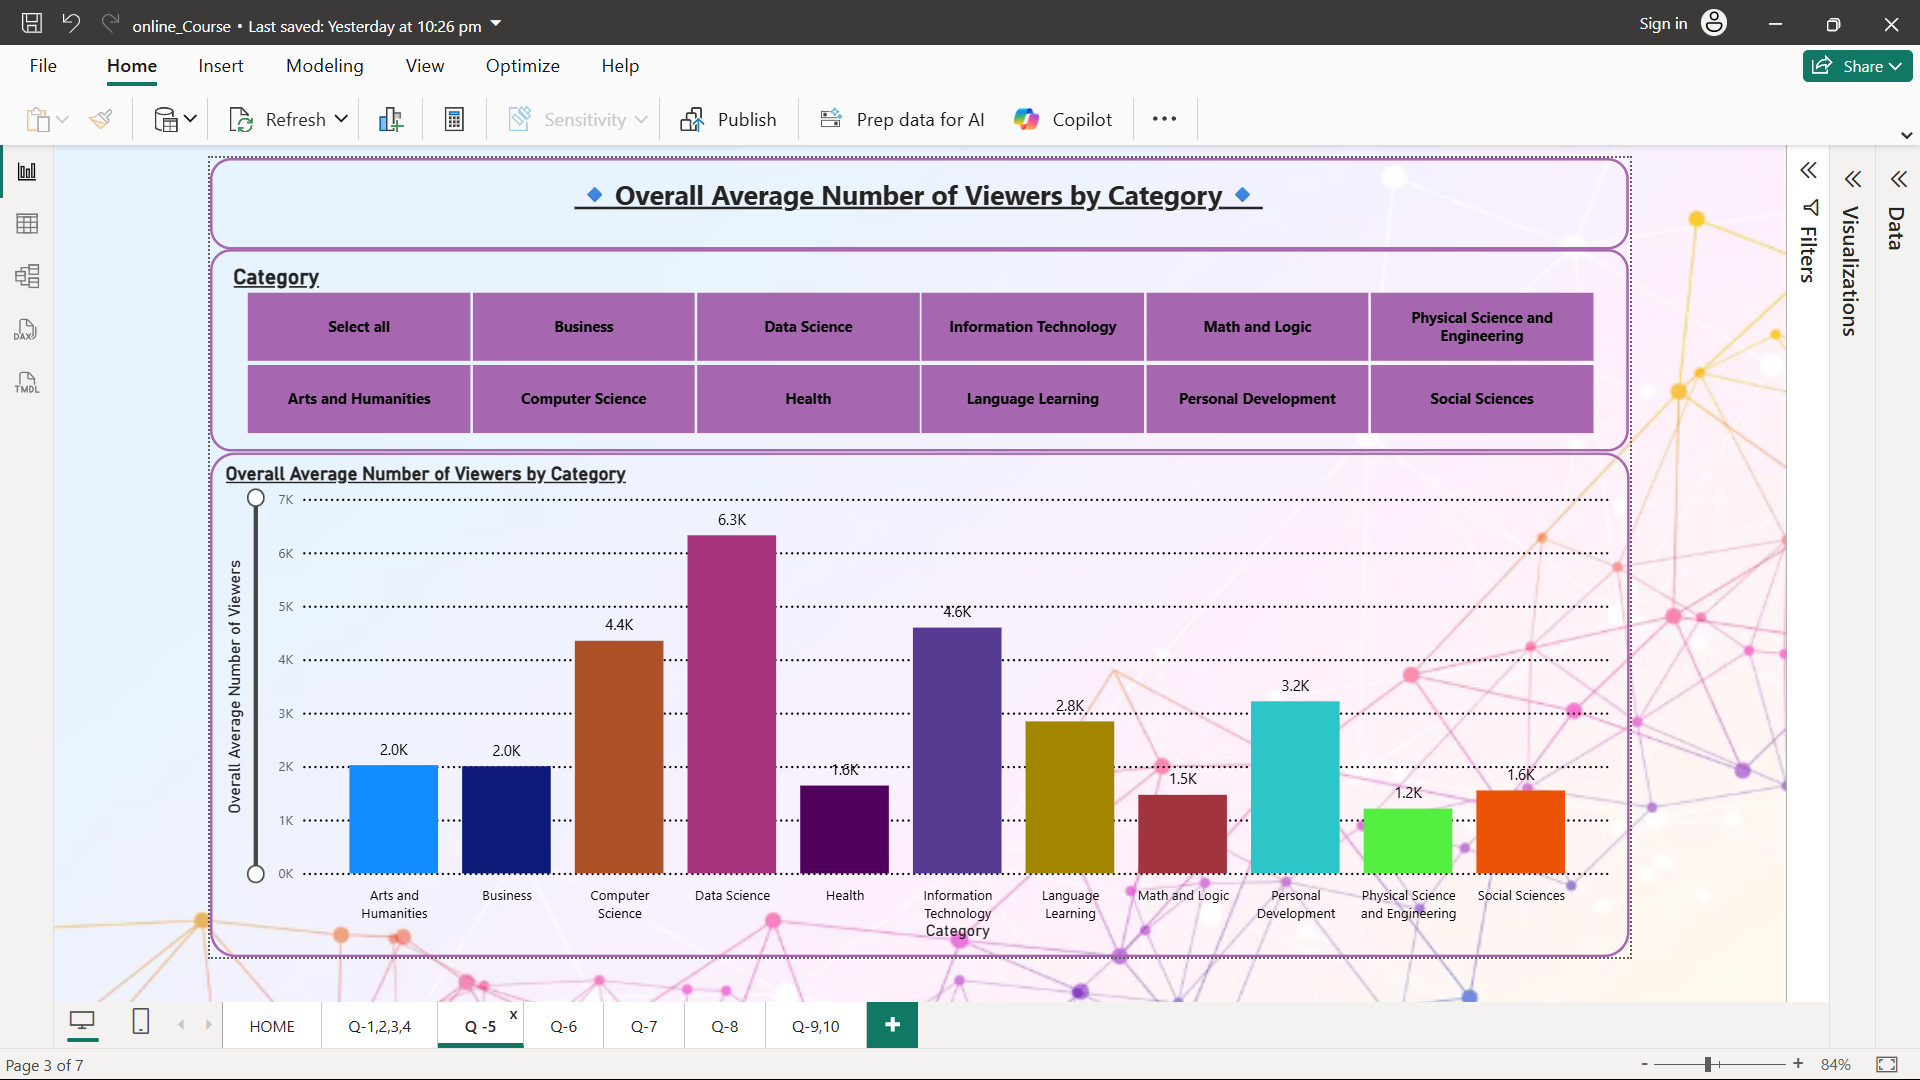

This screenshot's page, from the dashboard's own definition file:
{"tool":"powerbi","page":{"name":"Q -5","canvas":[1280,720],"ordinal":2},"visuals":[{"type":"slicer","fields":{"Values":["Online_Courses (1).Category"]},"box":[0,82.4,1279.7,182.4],"z":0},{"type":"clusteredColumnChart","fields":{"Category":["Online_Courses (1).Category","Online_Courses (1).Sub-Category","Online_Courses (1).Language"],"Y":["Online_Courses (1).Overall Average Number of Viewers"]},"box":[0,265,1280,455],"z":1000},{"type":"textbox","box":[0,0,1279.7,82.4],"z":2000}]}

Visuals, with their boxes on the page's 1280x720 design canvas (x1, y1, x2, y2). These are canvas units, not pixel positions in the 1920x1080 screenshot, which may show the page scaled, cropped or inside an application window:
slicer - Online_Courses (1).Category: 0,82,1280,265
clusteredColumnChart - Online_Courses (1).Category x Online_Courses (1).Sub-Category: 0,265,1280,720
textbox: 0,0,1280,82
